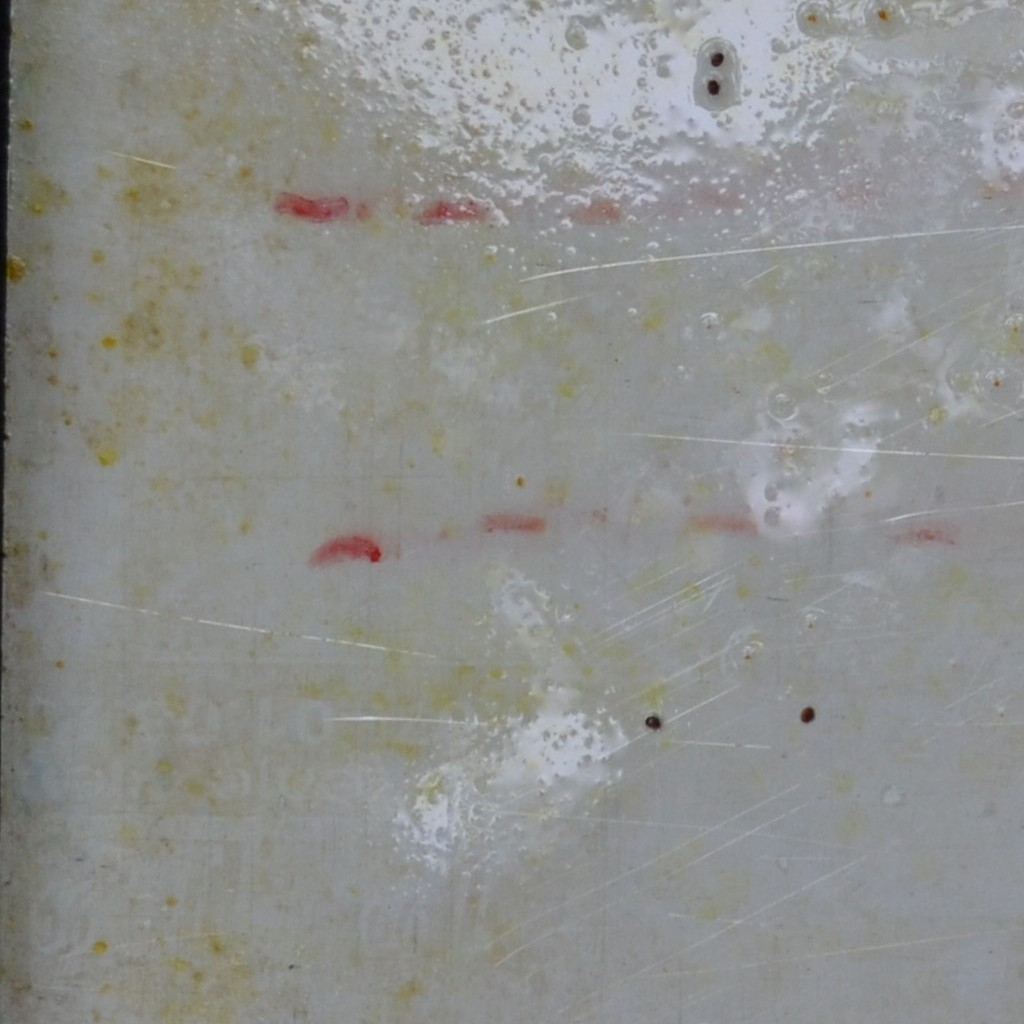varroa: (797, 702, 818, 728), (641, 708, 665, 730), (708, 48, 727, 68), (703, 78, 723, 97)
